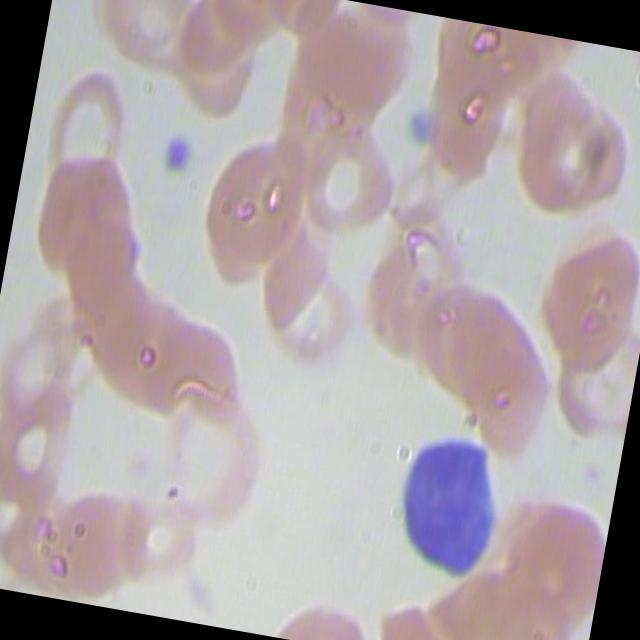Platelets: (154, 116, 206, 184), (395, 94, 436, 149)
RBC: (192, 121, 322, 294), (76, 258, 212, 418), (140, 379, 276, 538), (122, 289, 258, 448), (522, 210, 640, 389), (18, 129, 142, 280), (492, 482, 612, 637), (33, 179, 156, 330), (245, 220, 368, 358), (256, 255, 379, 393), (286, 112, 408, 250), (398, 251, 508, 404), (356, 215, 466, 368), (501, 65, 611, 218), (415, 35, 525, 188), (458, 314, 568, 466), (434, 270, 544, 422), (535, 295, 640, 448), (540, 81, 640, 234), (0, 273, 102, 421), (46, 466, 152, 598), (39, 51, 144, 182), (159, 10, 274, 127), (150, 0, 265, 101), (0, 370, 85, 502), (88, 0, 203, 79), (274, 578, 376, 640)
WBC: (377, 418, 523, 594)
